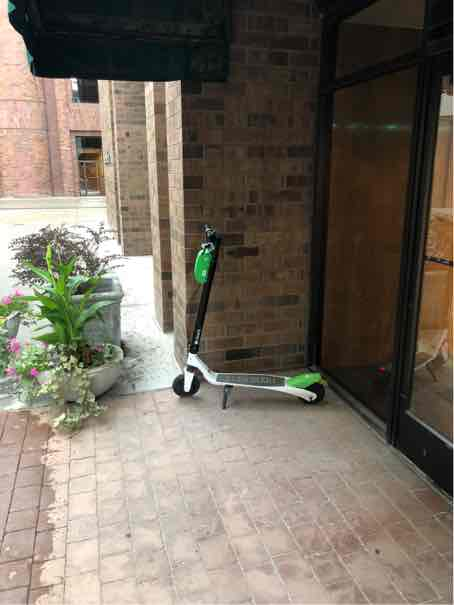scooter: (157, 216, 334, 411)
